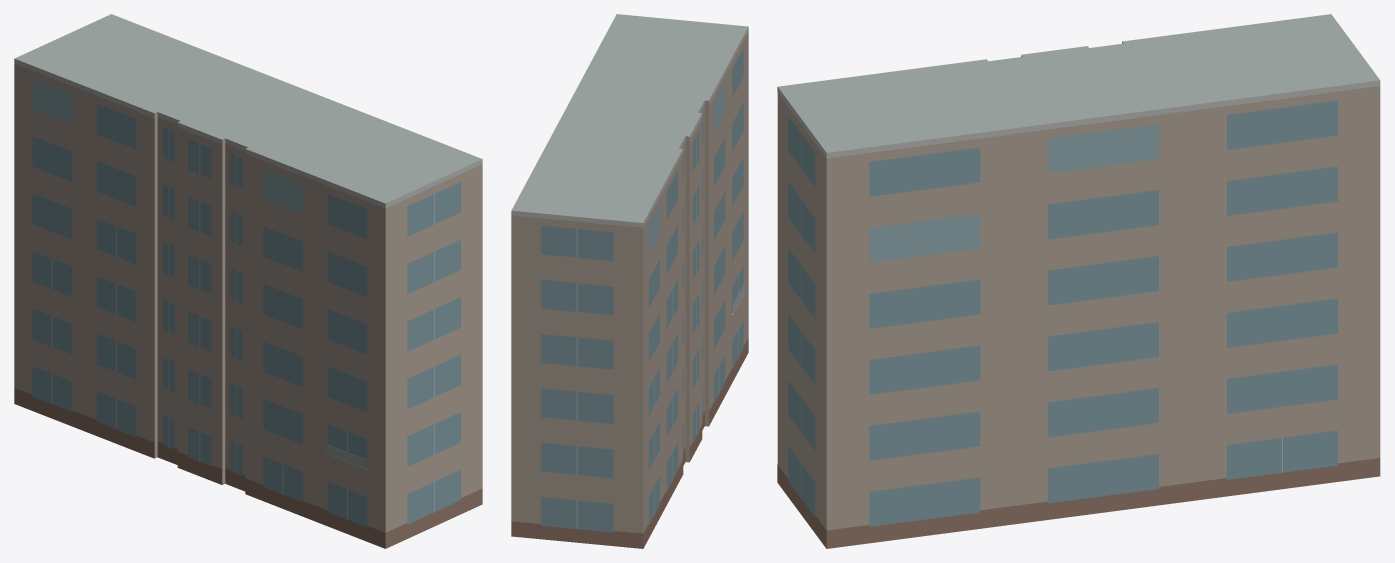
The model's file is survey-upis-32619030.glb.
3 renders of one model, left to right at view 1: azimuth 30°, elevation 25°; view 2: azimuth 150°, elevation 25°; view 3: azimuth 270°, elevation 25°, orthographic. The views are drawn at different scales.
Visible parts, largest first — view 1: survey-upis-32619030.tmp; view 2: survey-upis-32619030.tmp; view 3: survey-upis-32619030.tmp.
Boxes of the visible parts, box(x1,y1,x2,y2) form: survey-upis-32619030.tmp: box(14, 14, 482, 548); survey-upis-32619030.tmp: box(511, 14, 748, 548); survey-upis-32619030.tmp: box(777, 14, 1380, 548).
Size of the model in its own units: 12.8 by 17 by 23.47.
